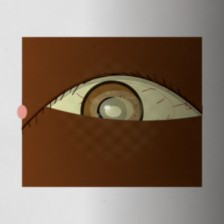corneal_ulcer: (89, 88, 144, 132)
